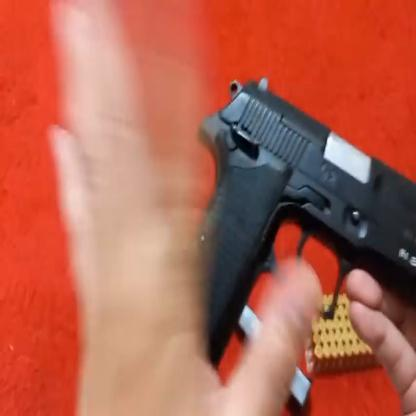handgun: (206, 75, 416, 330)
